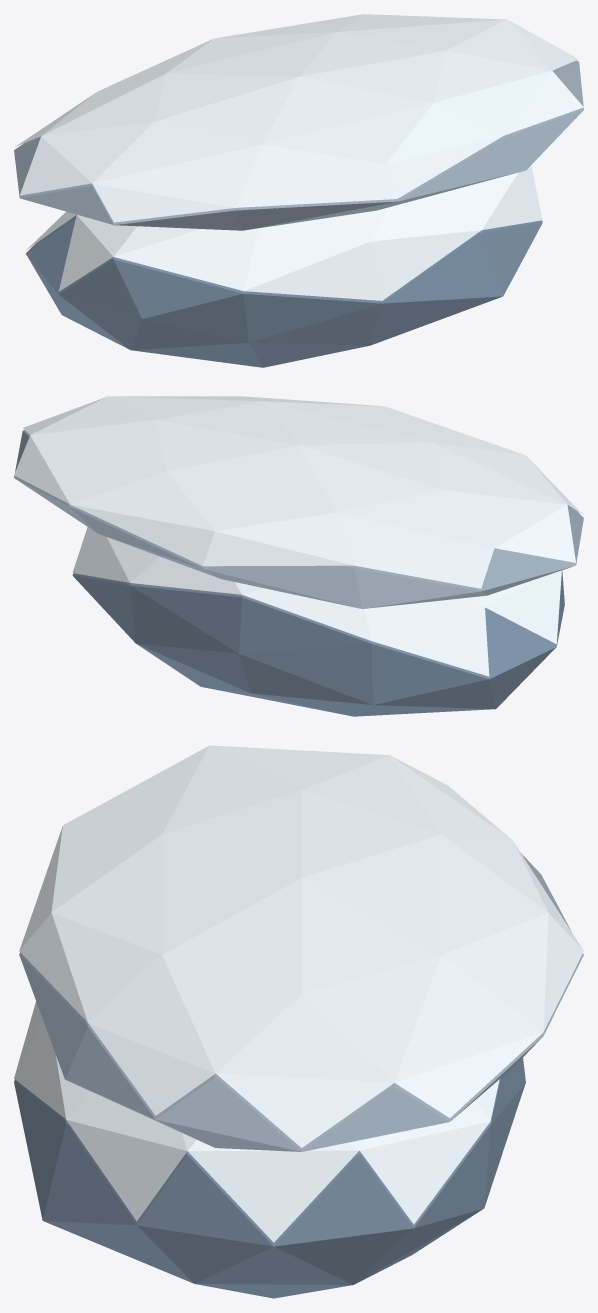
Rendered from rock-ledge-snowy.glb.
3 renders of one model, top to bottom at view 1: azimuth 30°, elevation 25°; view 2: azimuth 150°, elevation 25°; view 3: azimuth 270°, elevation 25°, orthographic. The views are drawn at different scales.
Visible parts, largest first — view 1: rock-ledge-kit-snowy-top, rock-ledge-kit-snowy-shade, rock-ledge-kit-snowy-stone; view 2: rock-ledge-kit-snowy-top, rock-ledge-kit-snowy-shade, rock-ledge-kit-snowy-stone; view 3: rock-ledge-kit-snowy-top, rock-ledge-kit-snowy-shade, rock-ledge-kit-snowy-stone.
Part boxes in pixels (x1,y1,x2,y2): rock-ledge-kit-snowy-top: [15, 14, 583, 300]; rock-ledge-kit-snowy-shade: [26, 215, 542, 367]; rock-ledge-kit-snowy-stone: [14, 60, 583, 230]; rock-ledge-kit-snowy-top: [14, 396, 582, 676]; rock-ledge-kit-snowy-shade: [72, 570, 564, 716]; rock-ledge-kit-snowy-stone: [14, 430, 583, 608]; rock-ledge-kit-snowy-top: [14, 745, 583, 1242]; rock-ledge-kit-snowy-shade: [14, 1058, 525, 1298]; rock-ledge-kit-snowy-stone: [19, 852, 583, 1151].
Bounding box in the file's own units: 3.34 × 1.35 × 2.04.
